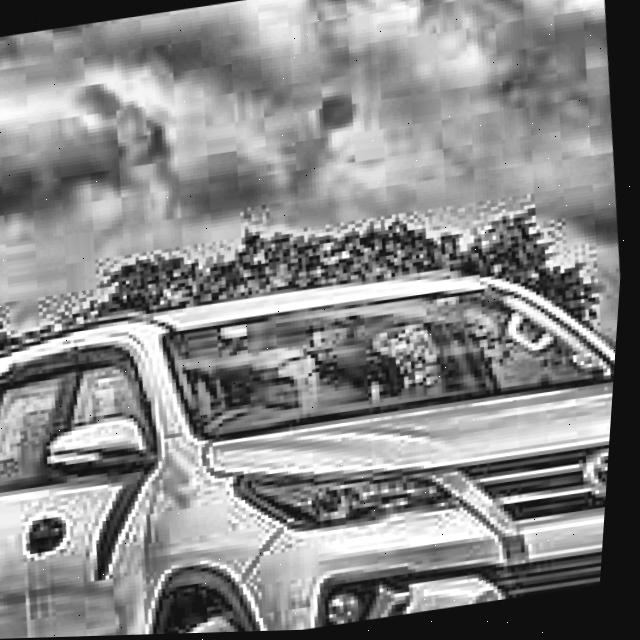light_vehicle: (0, 238, 627, 640)
